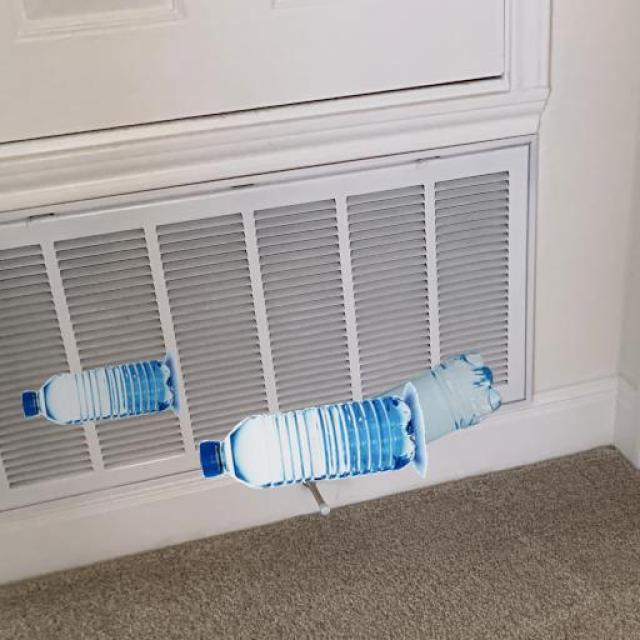bottle: (198, 385, 426, 491), (20, 350, 179, 426)
